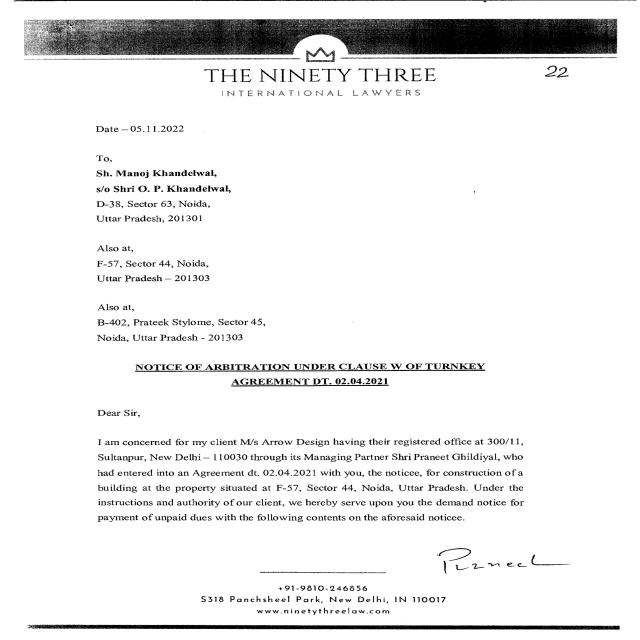page-number: (437, 60, 636, 158)
